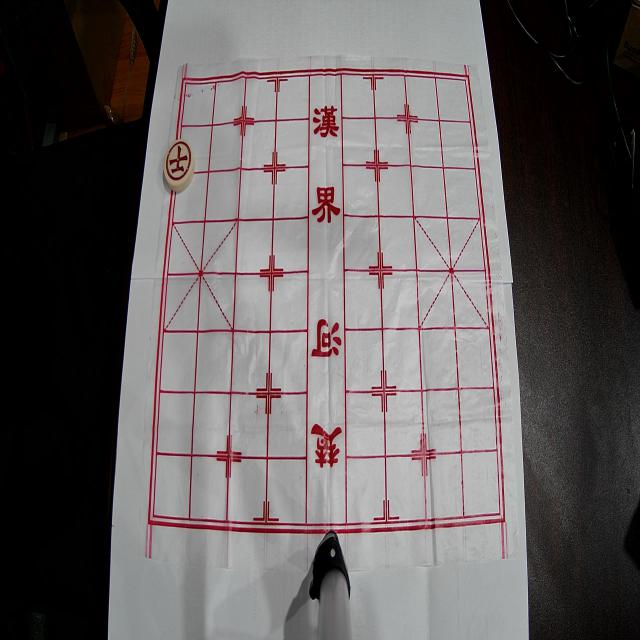red-guard: (164, 139, 195, 192)
